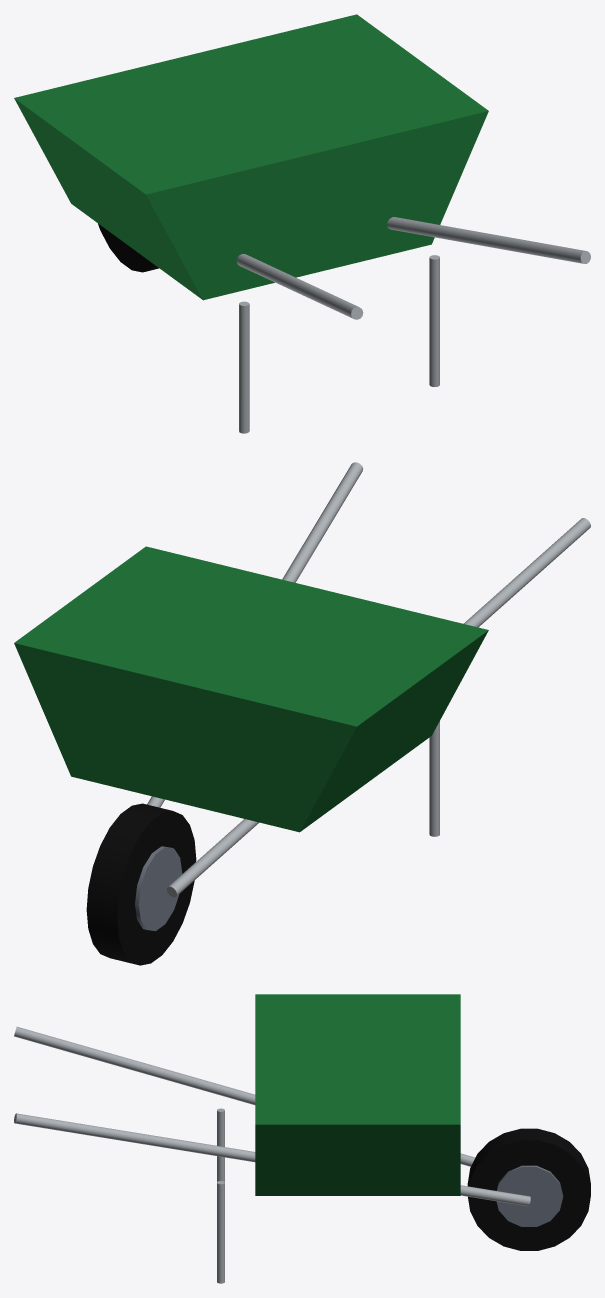
File: plant.tool.wheelbarrow.glb
The picture shows the model from 3 angles, top to bottom: view 1: azimuth 30°, elevation 25°; view 2: azimuth 150°, elevation 25°; view 3: azimuth 270°, elevation 25°; orthographic projection. The views are drawn at different scales.
Visible parts, largest first — view 1: main__plastic_green, main__steel_galvanised, main__rubber; view 2: main__plastic_green, main__rubber, main__steel_galvanised, main__steel_painted; view 3: main__plastic_green, main__rubber, main__steel_galvanised, main__steel_painted.
Boxes of the visible parts, x1,y1,x2,y2 form: main__plastic_green: (14, 14, 488, 300); main__steel_galvanised: (236, 217, 590, 433); main__rubber: (98, 223, 158, 272); main__plastic_green: (14, 546, 488, 832); main__rubber: (86, 803, 196, 965); main__steel_galvanised: (147, 462, 590, 897); main__steel_painted: (135, 846, 182, 931); main__plastic_green: (255, 994, 460, 1195); main__rubber: (467, 1128, 590, 1250); main__steel_galvanised: (14, 1026, 530, 1283); main__steel_painted: (496, 1165, 563, 1226).
Size of the model in its own units: 0.9 by 0.6 by 1.68.
